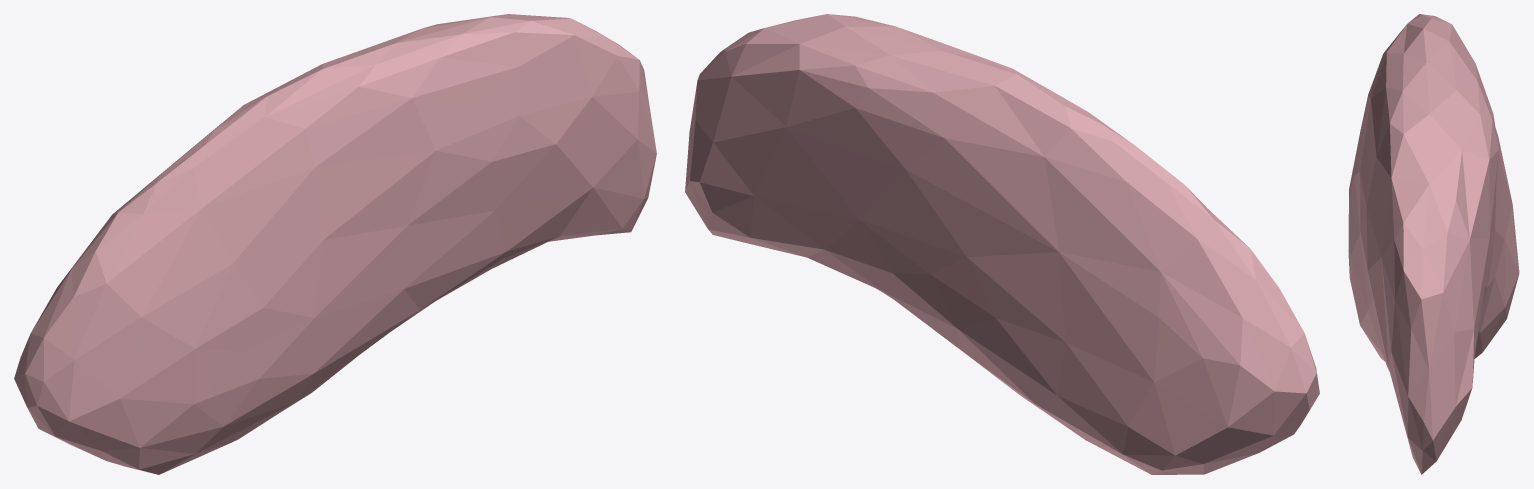
3 views of the same model, side by side, from view 1: azimuth 30°, elevation 25°; view 2: azimuth 150°, elevation 25°; view 3: azimuth 270°, elevation 25° (orthographic). The views are drawn at different scales.
Parts seen in each view (by area): view 1: 560581559.obj; view 2: 560581559.obj; view 3: 560581559.obj.
Boxes of the visible parts, left/top/right/bottom form: 560581559.obj: left=14, top=14, right=656, bottom=474; 560581559.obj: left=685, top=14, right=1319, bottom=474; 560581559.obj: left=1348, top=14, right=1519, bottom=474.
Bounding box in the file's own units: 1071 × 595 × 218.
